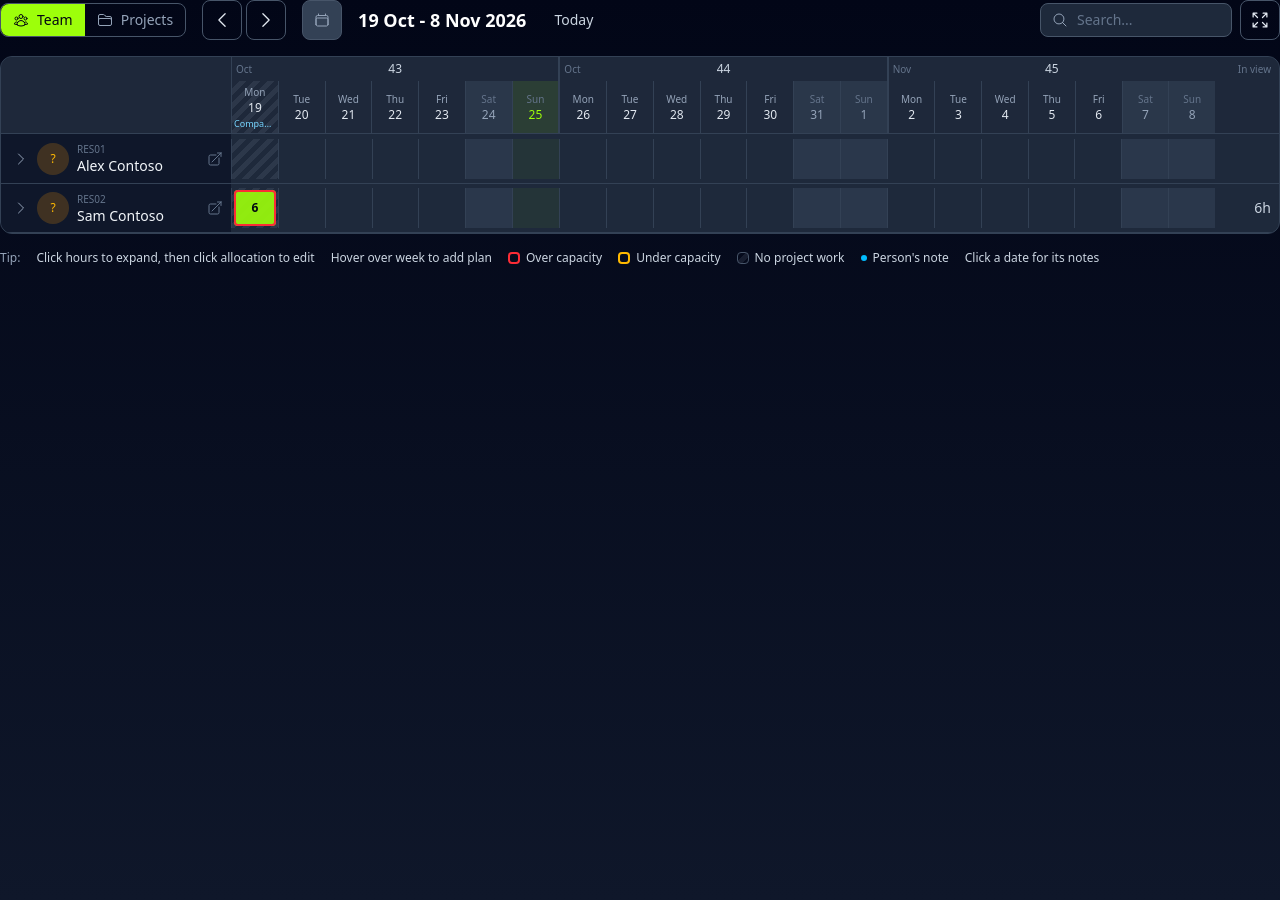
Test case: PlanPanel day notes › offers Add, Edit and Delete with permission
Expected: the text "Company Off-Site" is shown, [232,118,278,129]
Click the button with aria-label ": 1 note, show". click: (254, 107)
box: [231,81,278,133]
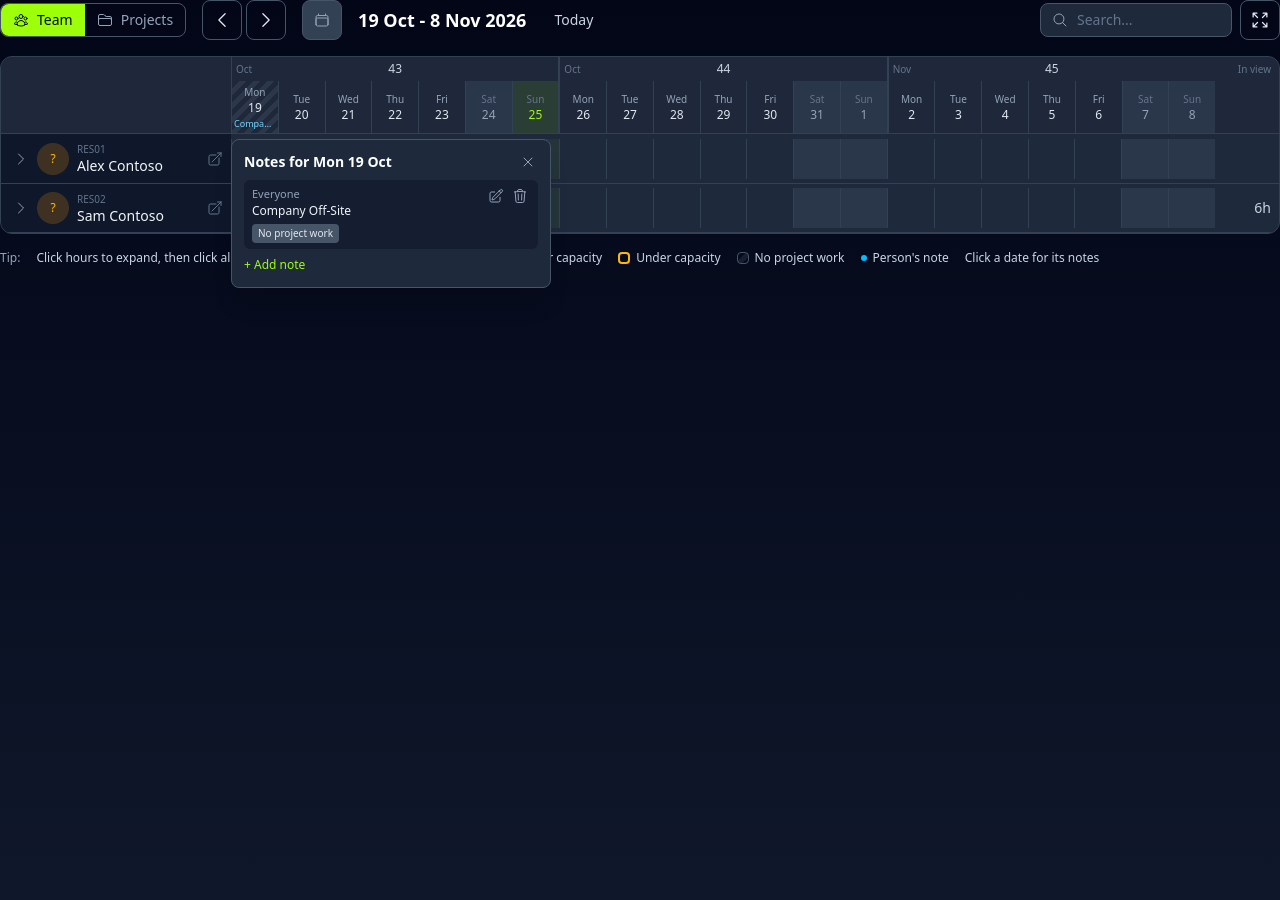
Expected: the button "+ Add note" is shown, [244,257,305,273]
Expected: the button named "Edit note \"Company Off-Site\"" is shown, [486,186,506,206]
Expected: the button named "Delete note \"Company Off-Site\"" is shown, [510,186,530,206]
